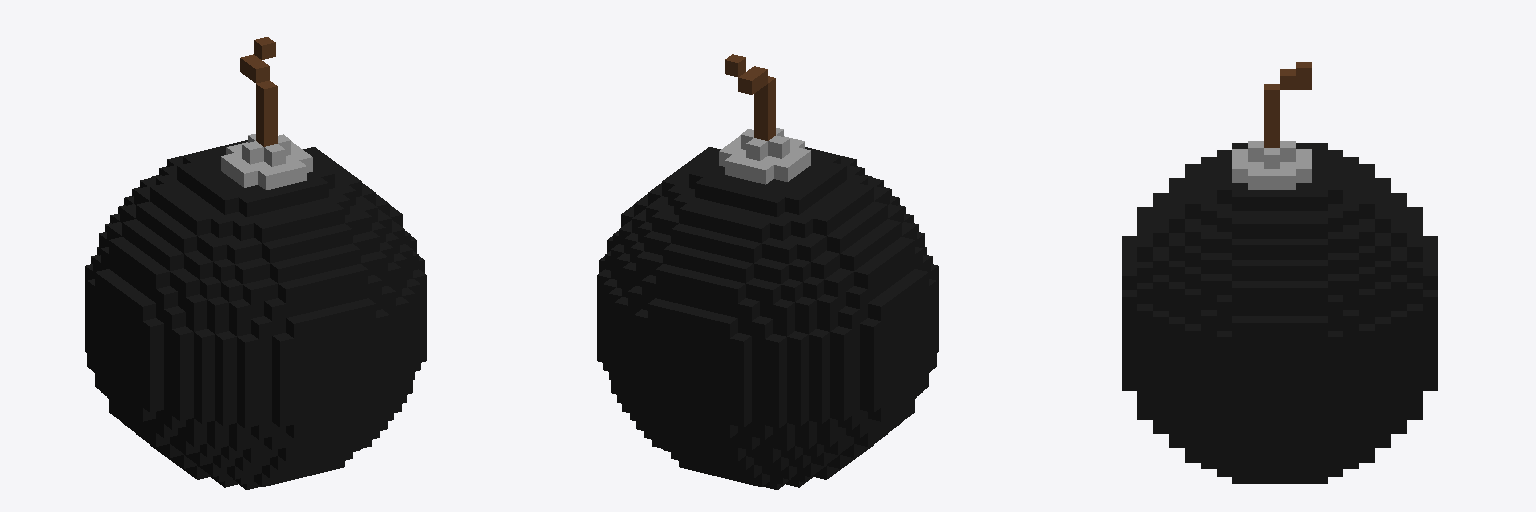
3 views of the same model, side by side, from view 1: azimuth 30°, elevation 25°; view 2: azimuth 150°, elevation 25°; view 3: azimuth 270°, elevation 25° (orthographic).
Visible parts, largest first — view 1: Matrix; view 2: Matrix; view 3: Matrix.
Part boxes in pixels (left/top/right/bottom): Matrix: left=85, top=37, right=426, bottom=489; Matrix: left=597, top=54, right=938, bottom=489; Matrix: left=1122, top=62, right=1437, bottom=483.
Size of the model in its own units: 20 by 28 by 20.
Materials: 1 (1 with a texture image).